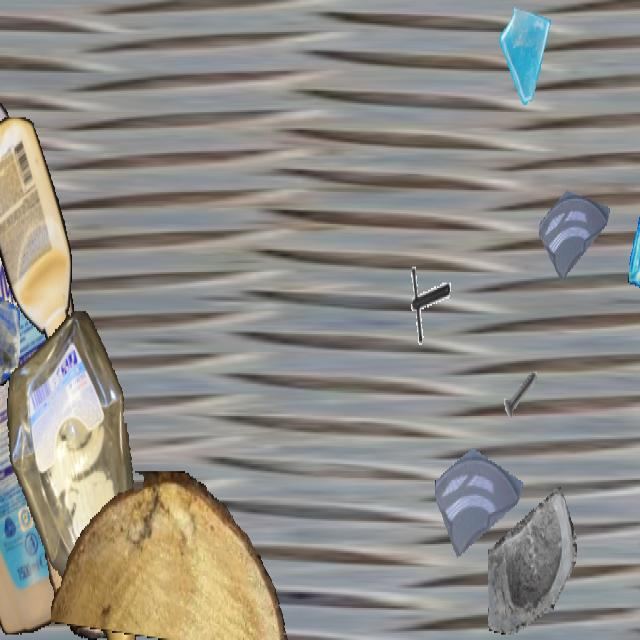glass: (488, 482, 576, 638), (435, 416, 523, 572), (539, 162, 611, 290), (498, 2, 556, 105), (0, 231, 20, 398), (626, 137, 640, 304)
metal: (41, 267, 103, 377), (402, 261, 450, 347), (500, 357, 542, 432)
plastic: (0, 2, 122, 634), (2, 311, 148, 638), (0, 117, 71, 345)
wood: (51, 471, 291, 638), (43, 450, 119, 638)
